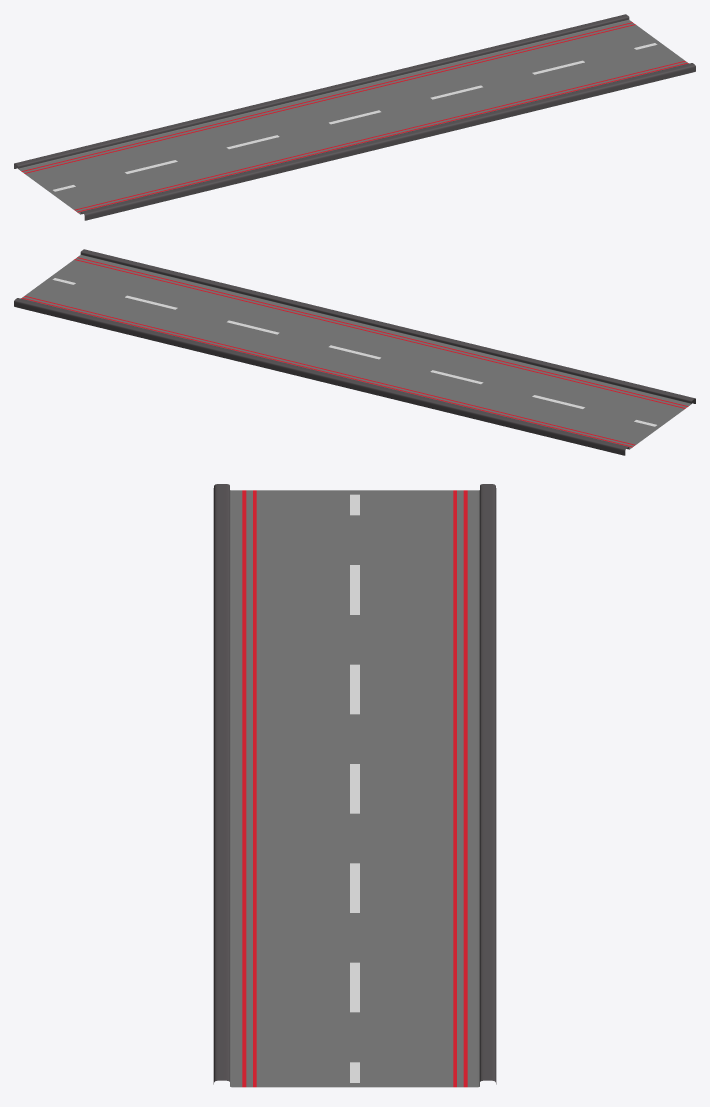
Rendered from Road.fbx.
3 views of the same model, one above another, from view 1: azimuth 30°, elevation 25°; view 2: azimuth 150°, elevation 25°; view 3: azimuth 270°, elevation 25° (orthographic). The views are drawn at different scales.
Visible parts, largest first — view 1: Road; view 2: Road; view 3: Road.
Part boxes in pixels (<box>): Road: <box>14,14,695,220</box>; Road: <box>14,249,695,455</box>; Road: <box>213,484,496,1087</box>.
Size of the model in its own units: 5000 by 50 by 1000.
